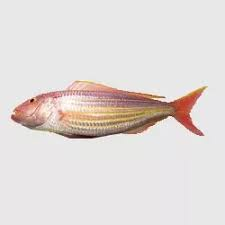Ikan Kerisi: (8, 80, 208, 139)
